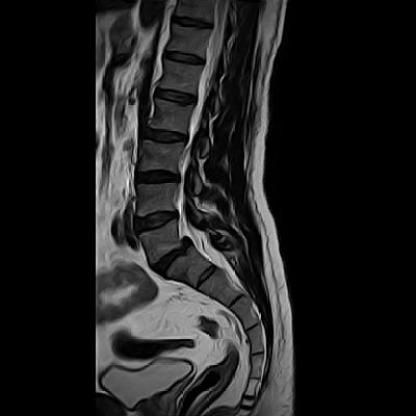Disc Bulgerotation: (150, 244, 201, 272), (133, 208, 179, 235), (134, 169, 181, 186)
